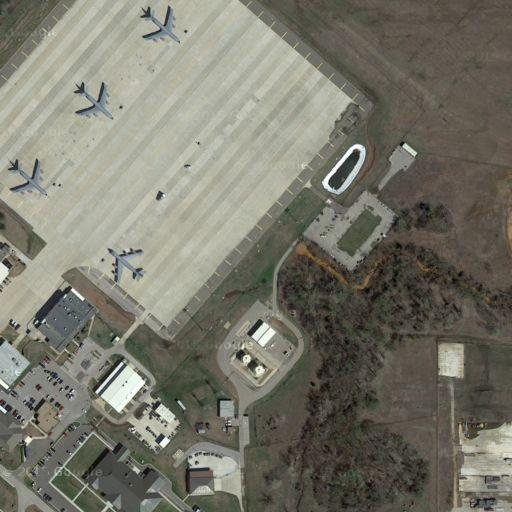KC-135: (136, 2, 182, 45), (104, 244, 148, 285), (71, 81, 114, 121), (7, 156, 49, 196)
